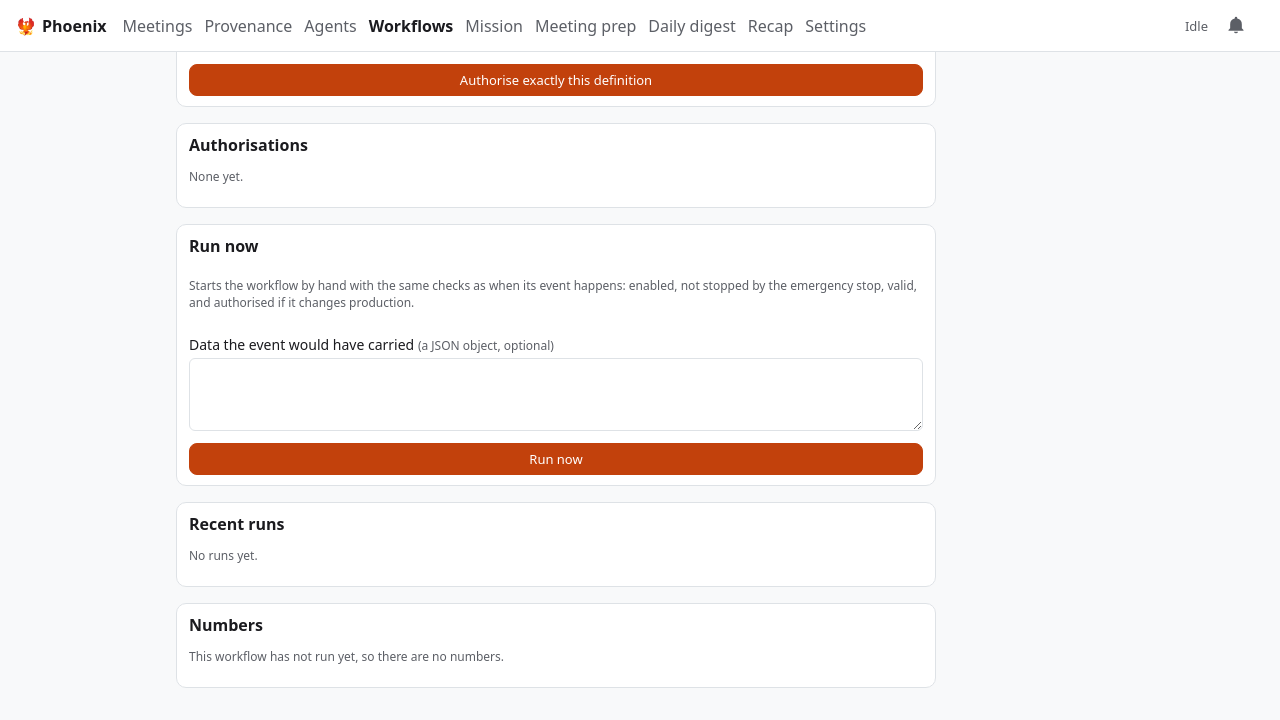
Scenario: Workflow detail › run now › shows other API errors (400 WORKFLOW_DISABLED)
(page scrolled)
Click the button "Run now": x=556, y=459 left=189, top=443, right=923, bottom=475
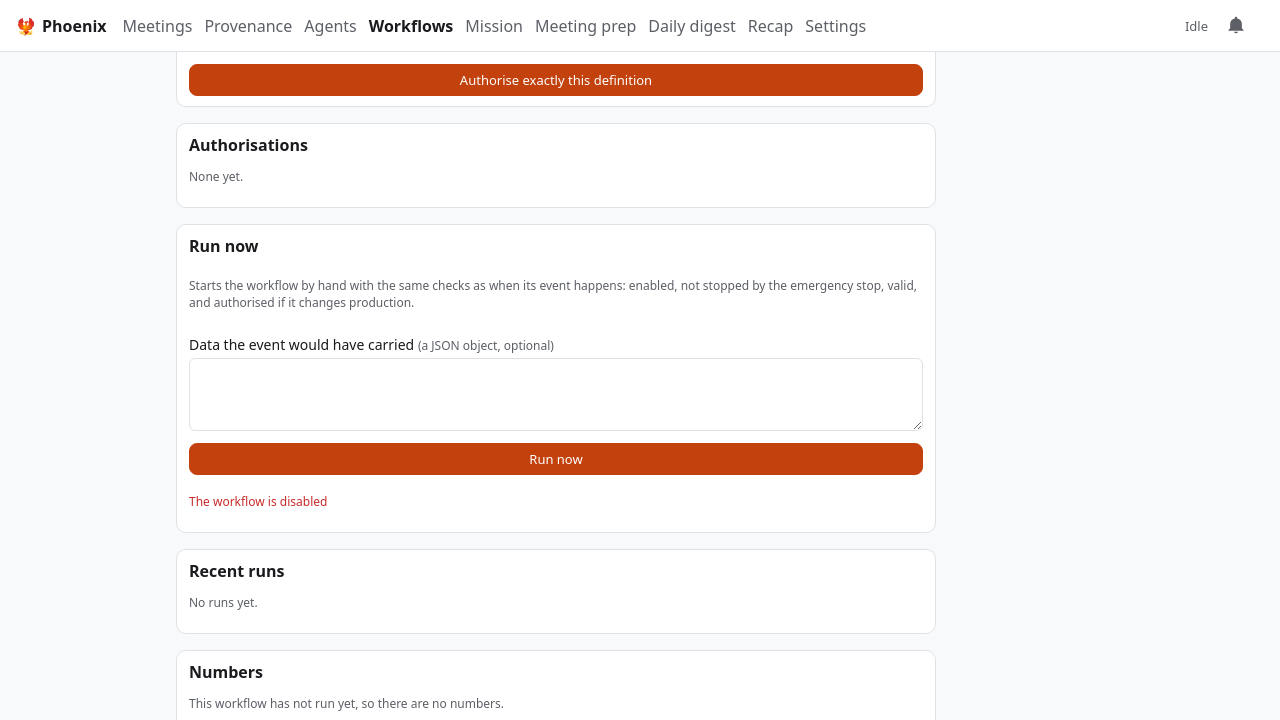
Now the message reads "The workflow is disabled", box left=189, top=493, right=327, bottom=510
